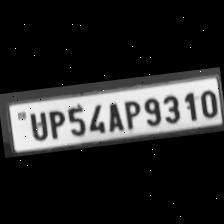0: (196, 86, 220, 118)
1: (179, 89, 199, 122)
3: (158, 90, 182, 124)
4: (84, 99, 107, 133)
5: (62, 102, 86, 137)
9: (138, 94, 162, 127)
A: (102, 98, 123, 132)
P: (44, 106, 66, 140), (119, 96, 141, 130)
U: (24, 108, 48, 141)
